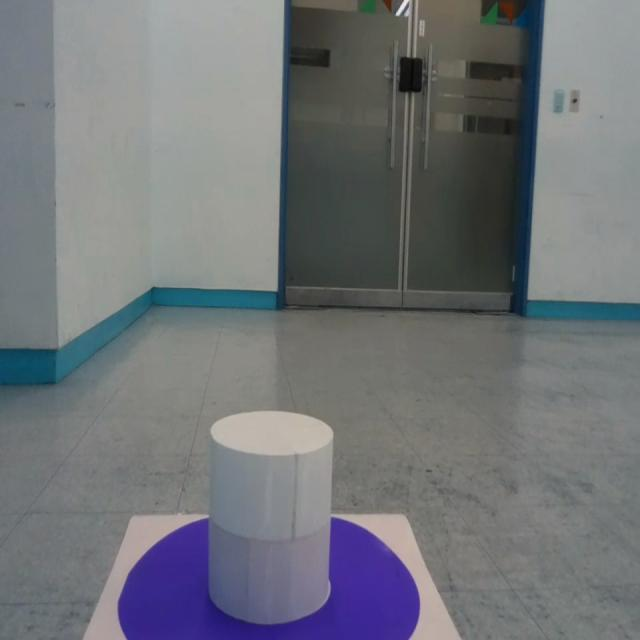cylinder: (207, 410, 334, 624)
